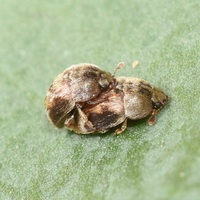insect: (45, 63, 168, 133)
